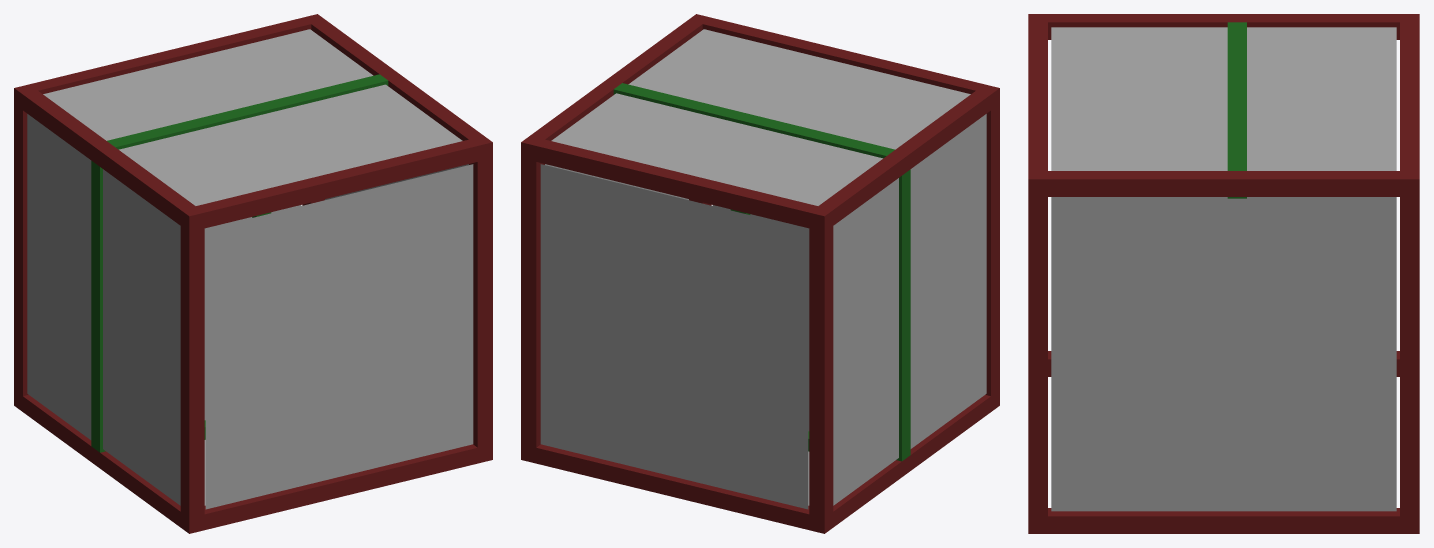
3 renders of one model, left to right at view 1: azimuth 30°, elevation 25°; view 2: azimuth 150°, elevation 25°; view 3: azimuth 270°, elevation 25°, orthographic. The views are drawn at different scales.
Parts seen in each view (by area): view 1: glass, outerEdge, innerEdge3, innerEdge4; view 2: glass, outerEdge, innerEdge3, innerEdge4; view 3: glass, outerEdge, innerEdge4.
Part boxes in pixels (x1,y1,x2,y2): glass: [27, 29, 473, 509]; outerEdge: [14, 14, 492, 533]; innerEdge3: [91, 161, 105, 452]; innerEdge4: [107, 74, 388, 149]; glass: [540, 29, 986, 509]; outerEdge: [521, 14, 999, 533]; innerEdge3: [896, 169, 910, 461]; innerEdge4: [613, 83, 894, 158]; glass: [1051, 27, 1396, 511]; outerEdge: [1028, 14, 1419, 533]; innerEdge4: [1227, 22, 1246, 170].
Size of the model in its own units: 1 by 1 by 1.
